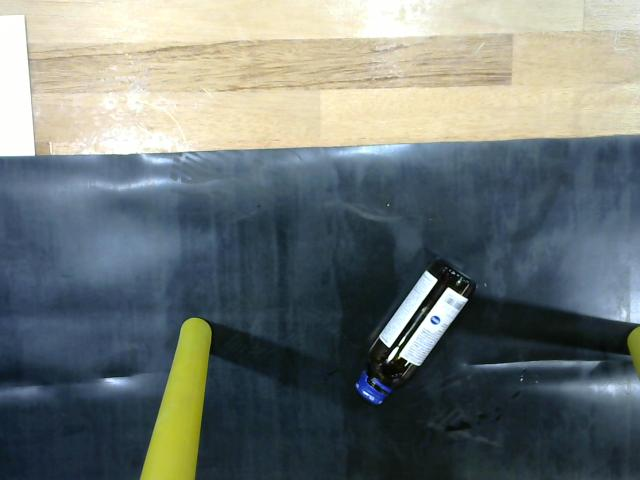glass: (352, 246, 492, 414)
